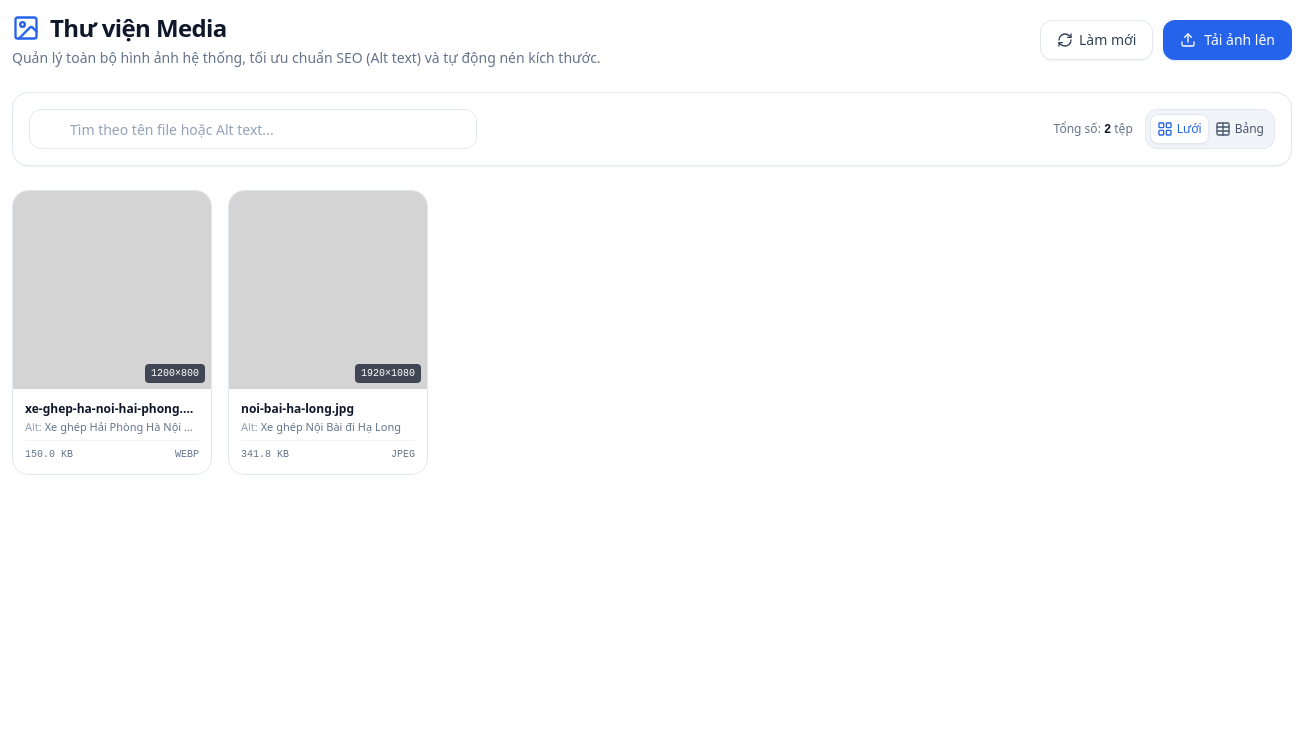
Test case: Media Module (Task T109 & T110) › MediaGallery Component (Task T109) › chuyển đổi giữa chế độ Lưới (Grid) và Bảng (Table)
Expected: the element with test id "media-grid" is shown, [12,190,428,474]
Click the button with test id "view-mode-table" at x=1239, y=129, box [1209,115,1270,143]
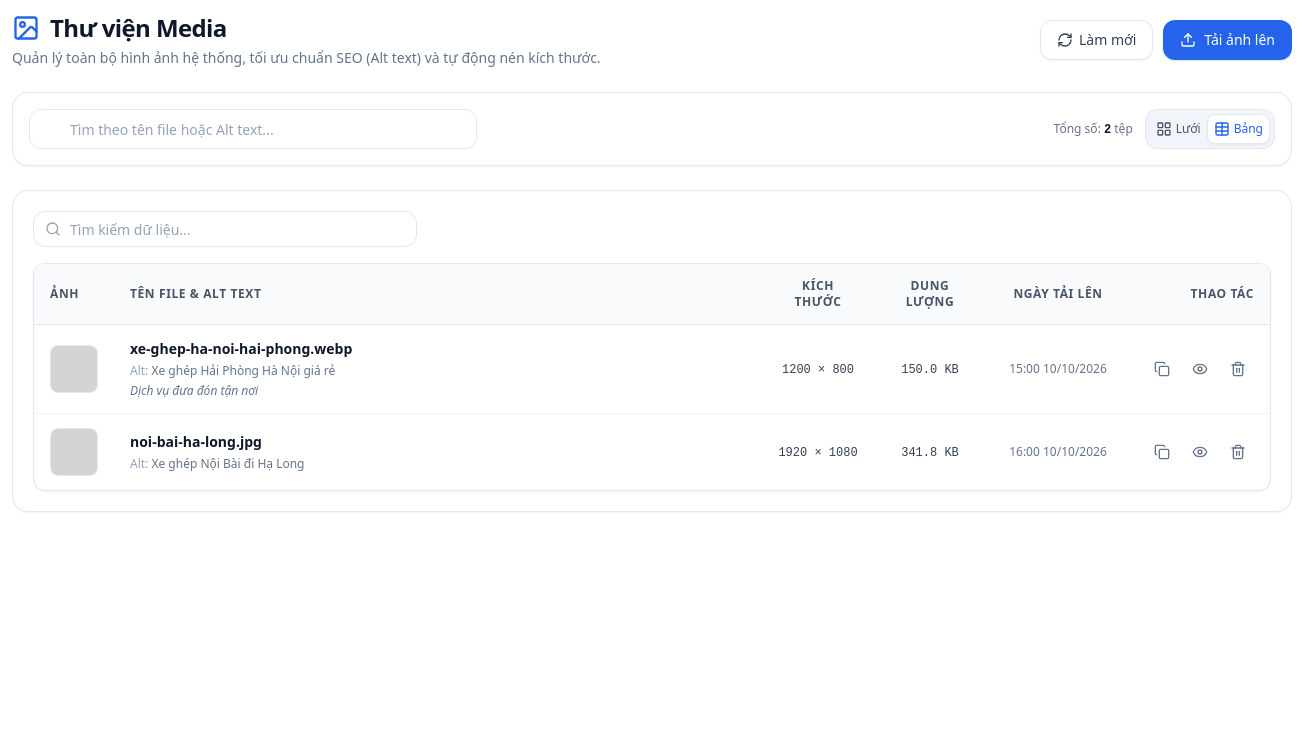
Now the table is shown, box [34,264,1270,490]
Now the text "Tên file & Alt text" is shown, box [130,286,262,302]
